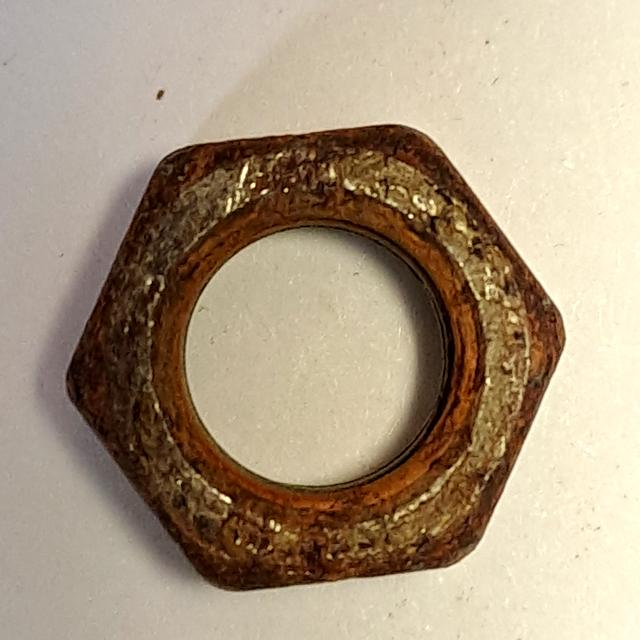Rust: (53, 113, 578, 606)
